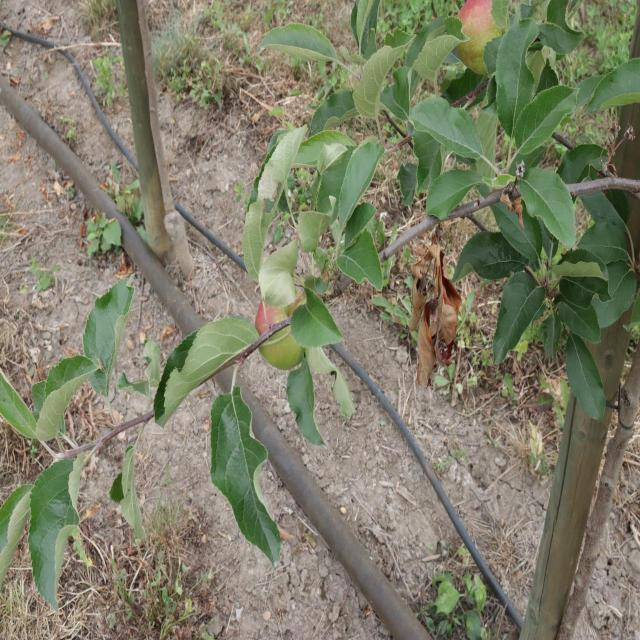-FireBlight-: (418, 229, 460, 378)
